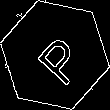P_NW: (25, 24, 85, 86)
